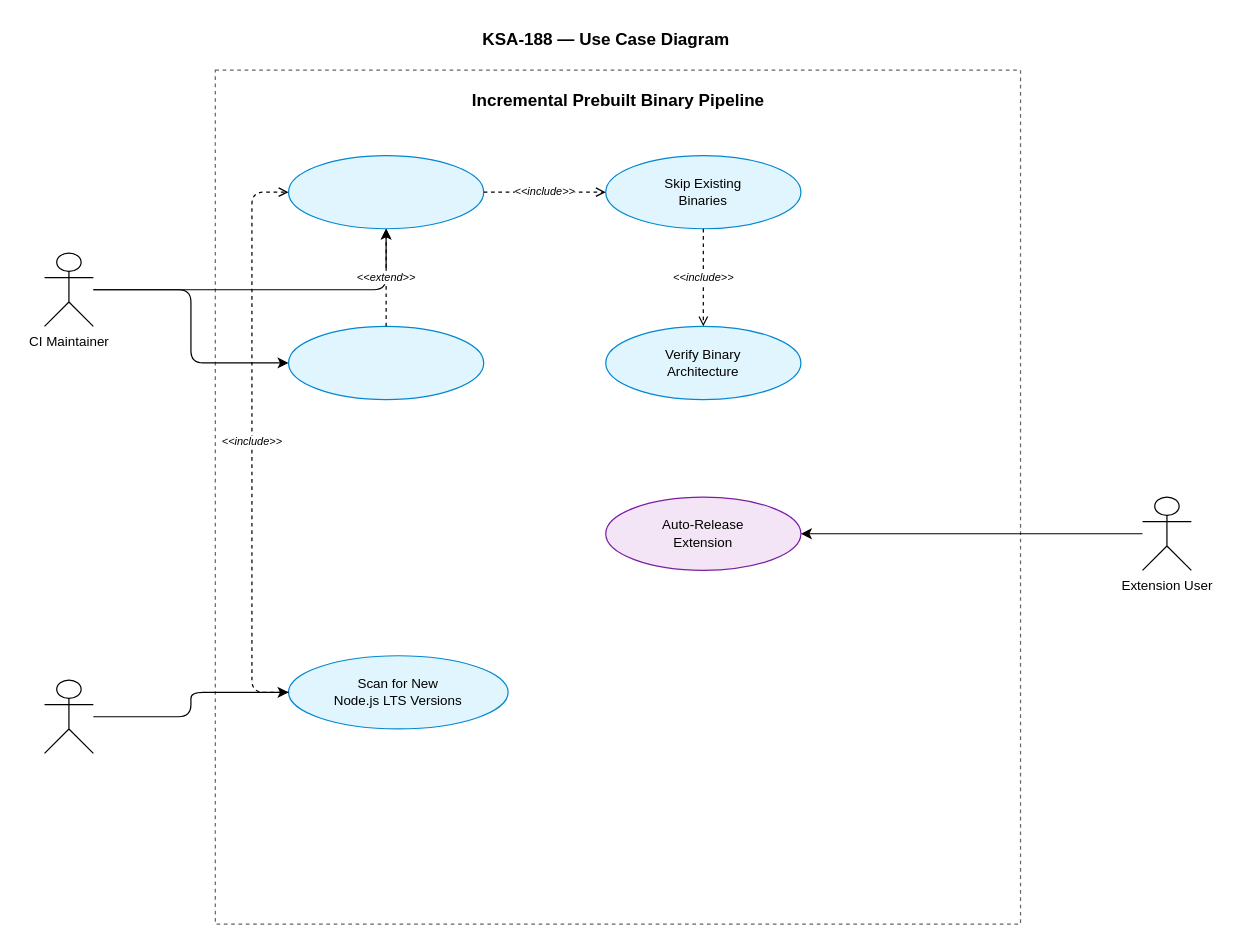
This 1233x946 diagram has some shape labels left out. The centre of each missing label's shape, as x and y in pixels:
Force Rebuild Specific Binaries: (x=385, y=362)
Scheduled Cron: (x=68, y=716)
Trigger Build (Manual): (x=385, y=191)
